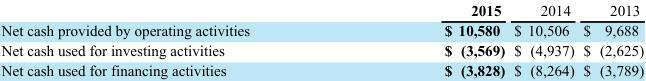table: (0, 1, 643, 78)
table column: (0, 1, 346, 78), (346, 1, 508, 78), (508, 1, 578, 78), (578, 1, 643, 78)
table column header: (0, 1, 643, 19)
table row: (0, 19, 643, 39), (0, 39, 643, 59), (0, 59, 643, 78), (0, 1, 643, 19)
